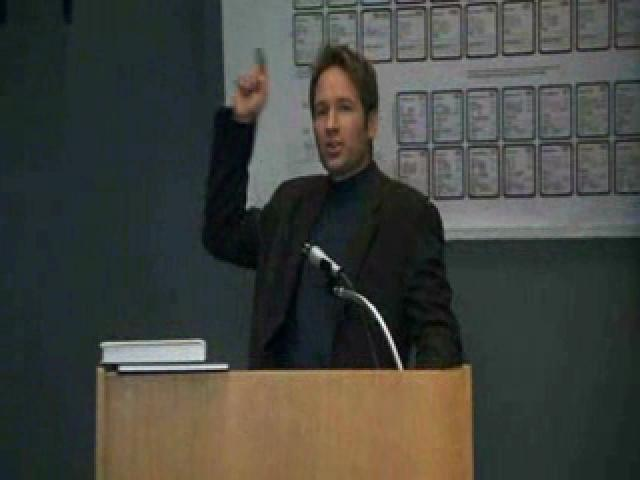T: (191, 30, 473, 378)
